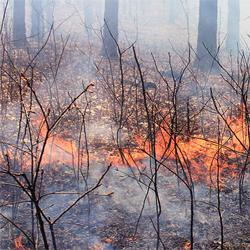fire: (155, 136, 247, 162)
